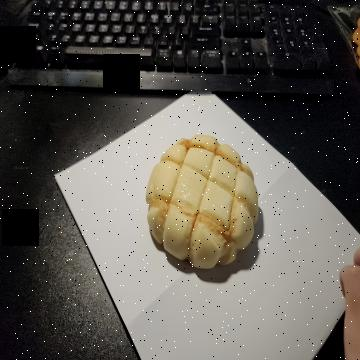melon_bread: (148, 136, 260, 268)
